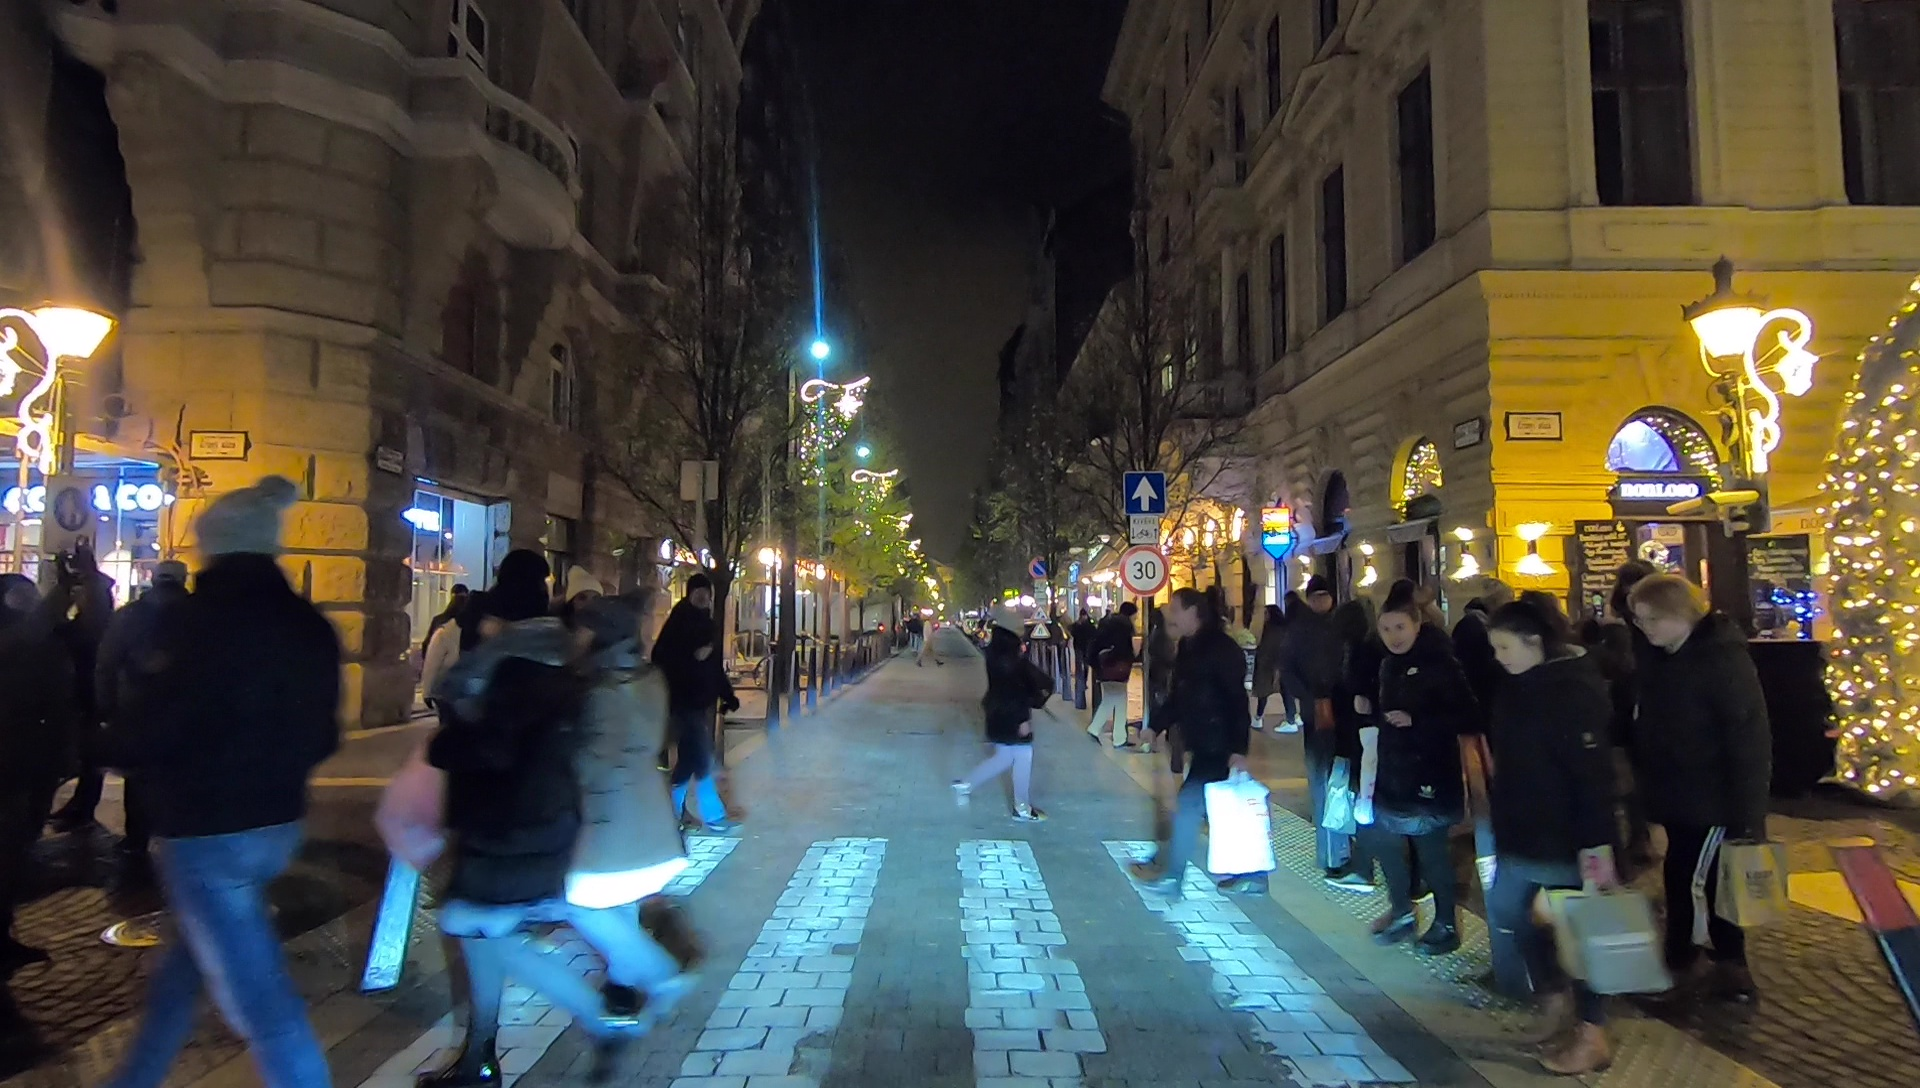person: (123, 478, 328, 1088), (425, 556, 591, 1074), (554, 584, 712, 1024), (1486, 608, 1623, 1076), (1623, 582, 1764, 1000), (1152, 589, 1275, 902), (1364, 593, 1469, 952), (10, 567, 108, 928), (125, 556, 199, 861), (662, 561, 734, 845), (956, 611, 1039, 824), (1295, 580, 1351, 786), (1086, 604, 1136, 752), (912, 611, 936, 667)
